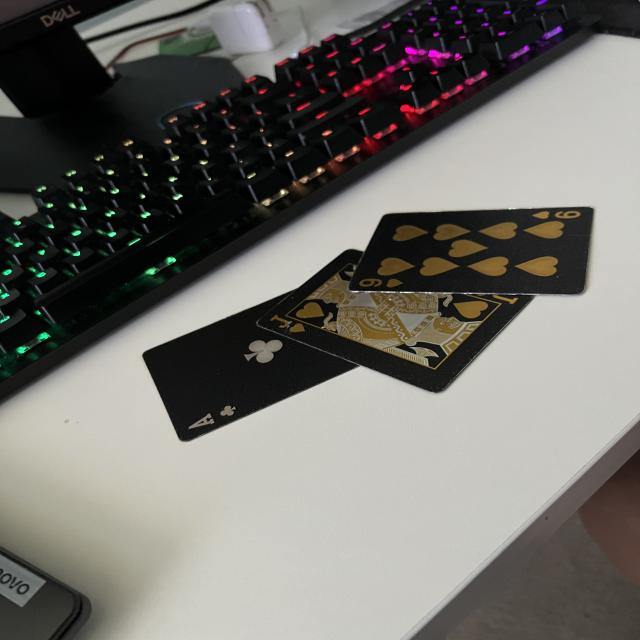9H: (525, 206, 589, 222), (358, 276, 409, 291)
AC: (180, 402, 252, 432)
JH: (267, 316, 314, 335)
